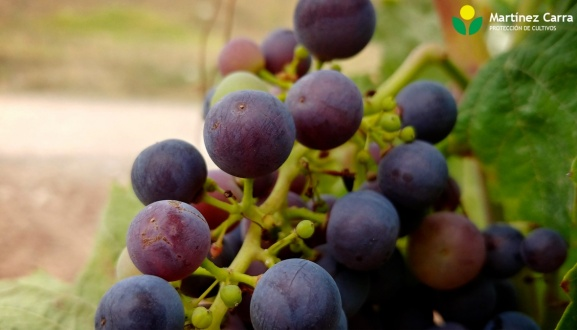Black grapes: (100, 5, 497, 330)
